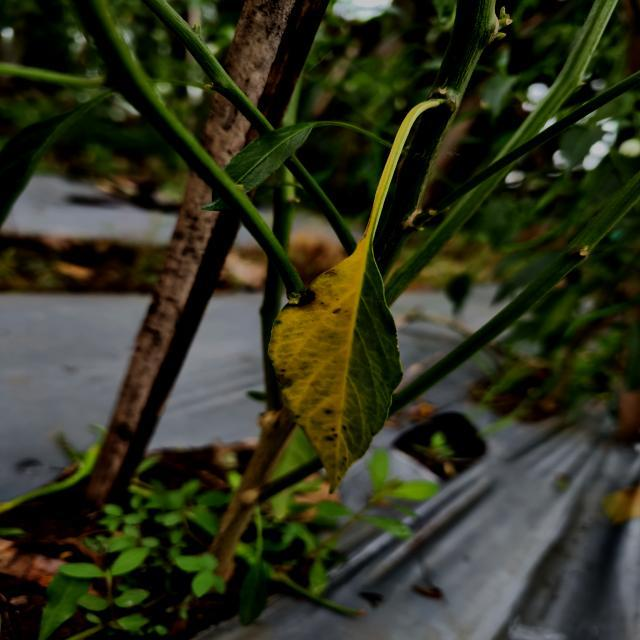Virus Kuning: (266, 234, 404, 494)
